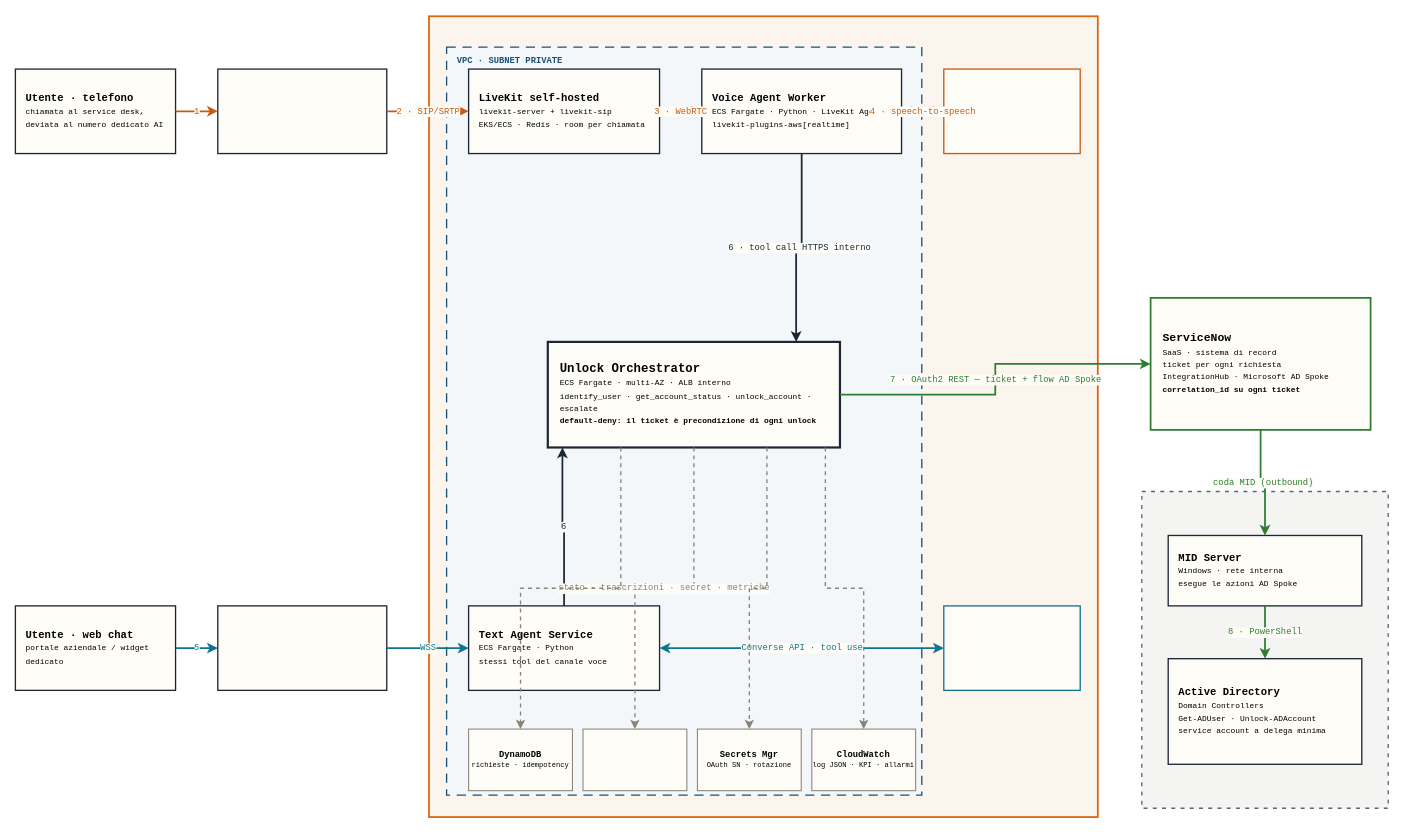
Some shapes in this 1404 by 832 pixel diagram are drawn without their labels. Here are the shapes that lost their labels. From the top down, the box of each, then its label:
(217, 68, 387, 154): SIP Trunk carrier / Chime SDK Voice Connector
(943, 68, 1080, 154): Amazon Bedrock Nova Sonic 2 STT+LLM+TTS · it-IT via VPC endpoint
(428, 15, 1098, 818): AWS — AMBIENTE DI PRODUZIONE
(217, 605, 387, 691): CloudFront + WAF API Gateway WebSocket
(943, 605, 1080, 691): Amazon Bedrock Nova / Claude LLM testuale via VPC endpoint
(1141, 490, 1388, 809): DATACENTER ON-PREMISE
(582, 728, 687, 791): S3 + KMS trascrizioni · 90 gg
